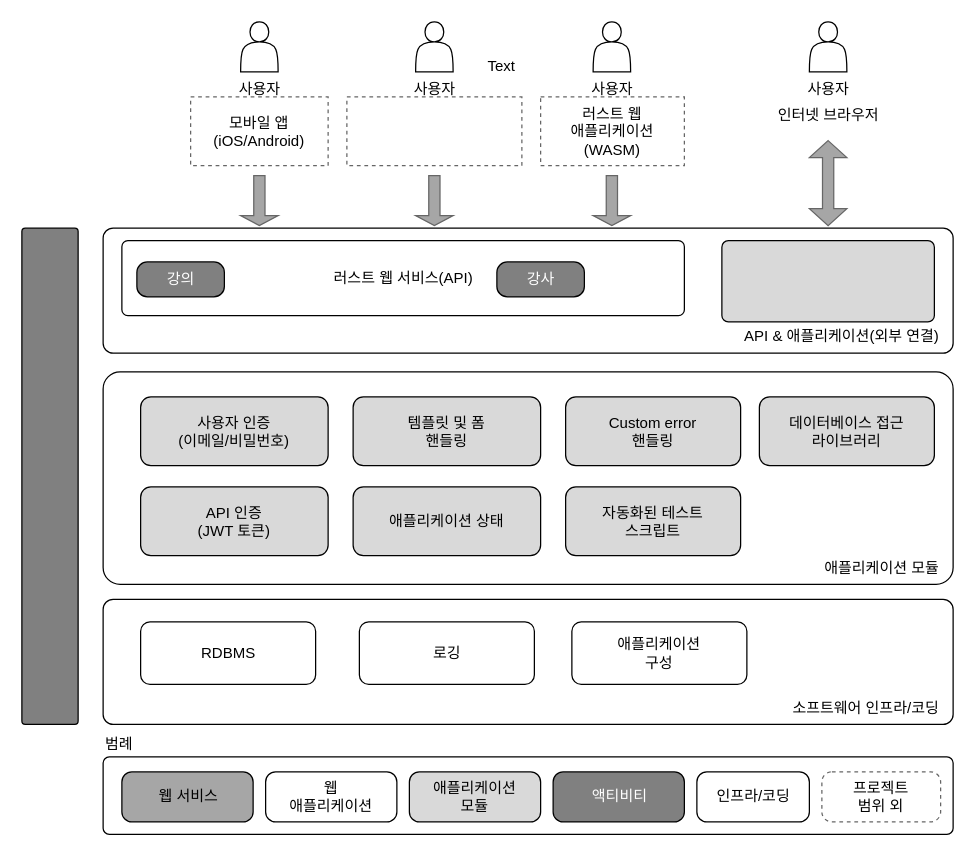
Some shapes in this 975 by 856 pixel diagram are drawn without their labels. Here are the shapes that lost their labels. From the top down, the centre of each, then its label:
point 434,131: 비 러스트 웹 애플리케이션 (React/Angular/Vue)
point 827,280: 러스트 웹 애플리케이션 (서버 사이드 렌더링)
point 49,475: 프로덕션 준비, 패키징/배포, 벤치마킹
